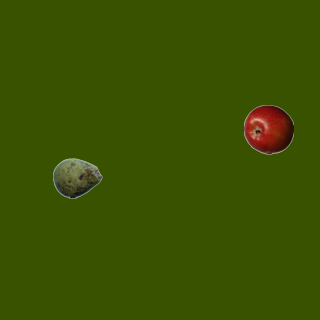Apple Braeburn: (243, 104, 293, 154)
Pear Stone: (52, 153, 102, 203)
